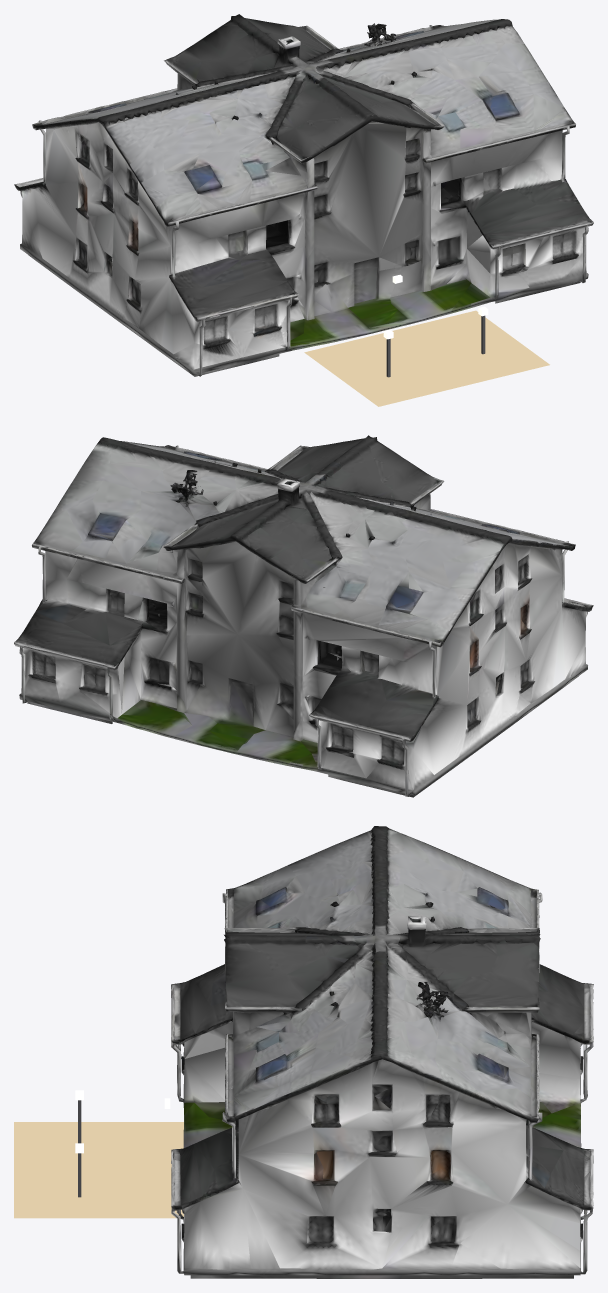
Rendered from mh-modern1.glb.
The picture shows the model from 3 angles, top to bottom: view 1: azimuth 30°, elevation 25°; view 2: azimuth 150°, elevation 25°; view 3: azimuth 270°, elevation 25°; orthographic projection. The views are drawn at different scales.
Parts seen in each view (by area): view 1: Mesh_0, lamp_pool; view 2: Mesh_0; view 3: Mesh_0, lamp_pool.
Part boxes in pixels (x1,y1,x2,y2): Mesh_0: (14, 14, 593, 376); lamp_pool: (304, 310, 549, 406); Mesh_0: (14, 435, 593, 797); Mesh_0: (171, 826, 593, 1278); lamp_pool: (14, 1122, 183, 1218).
Size of the model in its own units: 1.9 by 0.9711 by 2.04.
4 materials, 1 textured.
